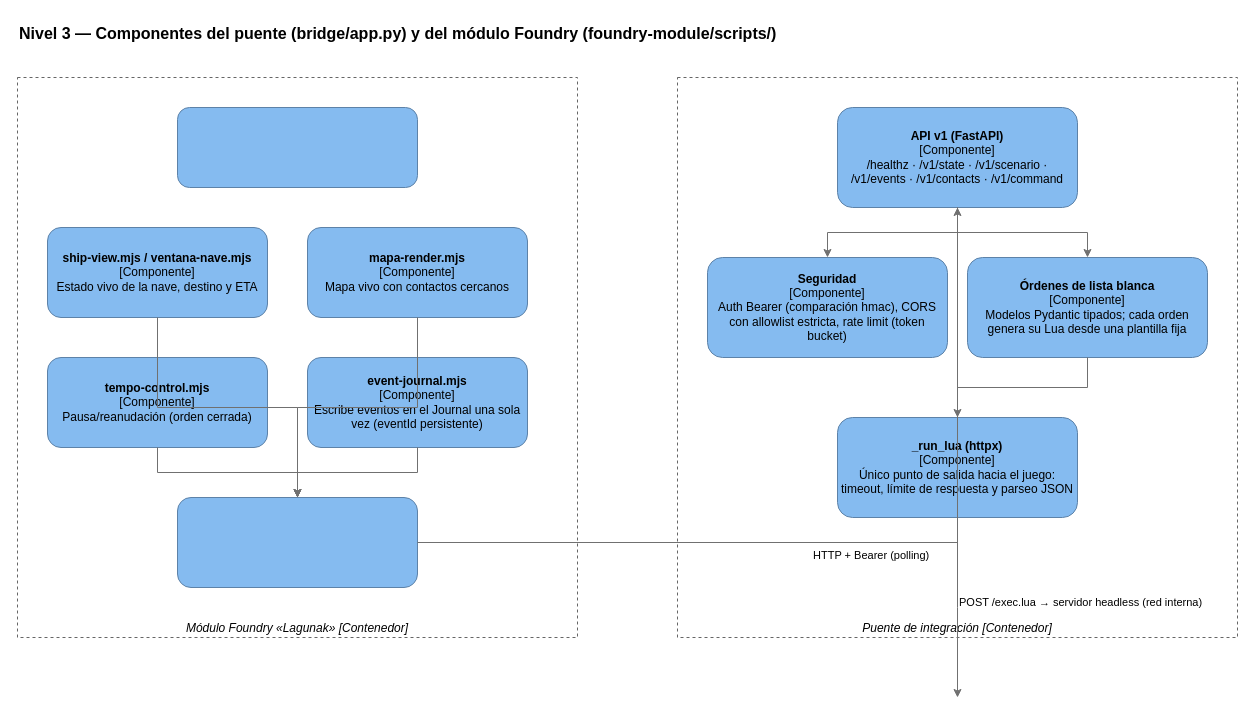
Some shapes in this 1255 by 723 pixel diagram are drawn without their labels. The centre of each missing label's shape, as x and y in pixels:
"bridge-client.mjs [Componente] Cliente HTTP del puente: polling, token y errores" goes at (297,542).
"main.mjs [Componente] Registro del módulo, ajustes y arranque" goes at (297,147).
